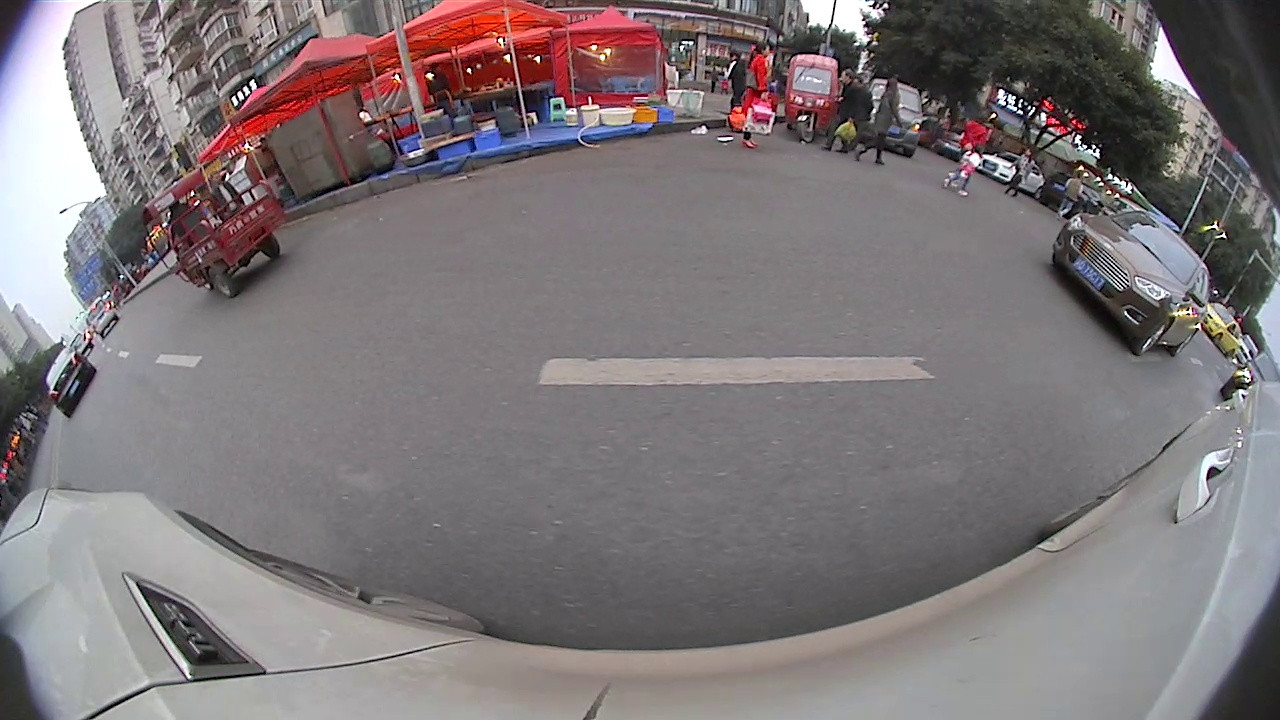car: (1047, 211, 1215, 356), (861, 75, 930, 159), (40, 343, 97, 419), (983, 143, 1046, 198), (1205, 292, 1244, 362)
front: (1129, 320, 1174, 357)
person: (744, 37, 772, 155), (955, 109, 991, 200), (871, 72, 903, 166), (839, 65, 859, 156)
rear: (205, 264, 238, 300)
rider: (139, 169, 290, 301), (785, 47, 841, 146)
